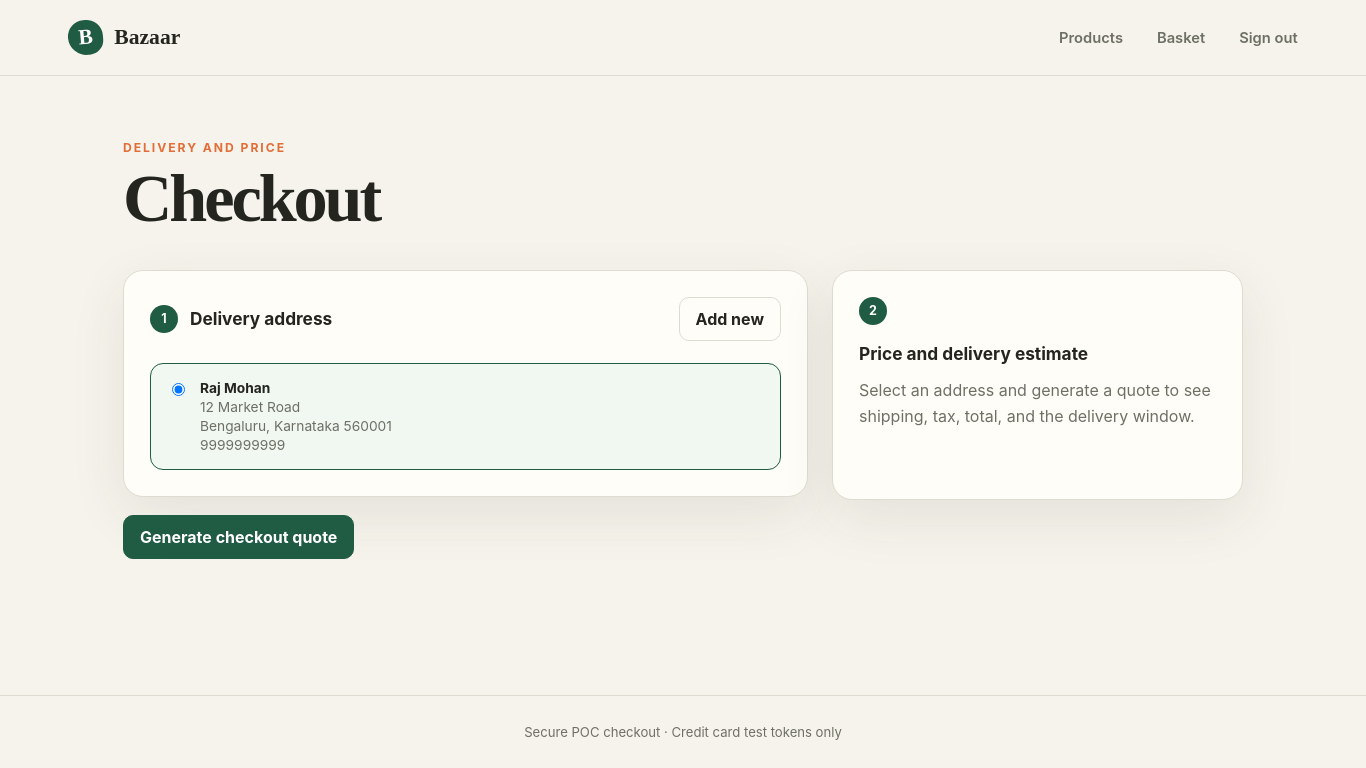
Test: commerce web › sends credit card token and reuses the idempotency key for a retry
Click the button "Generate checkout quote" at {"x": 239, "y": 537}, box [123,515,354,559]
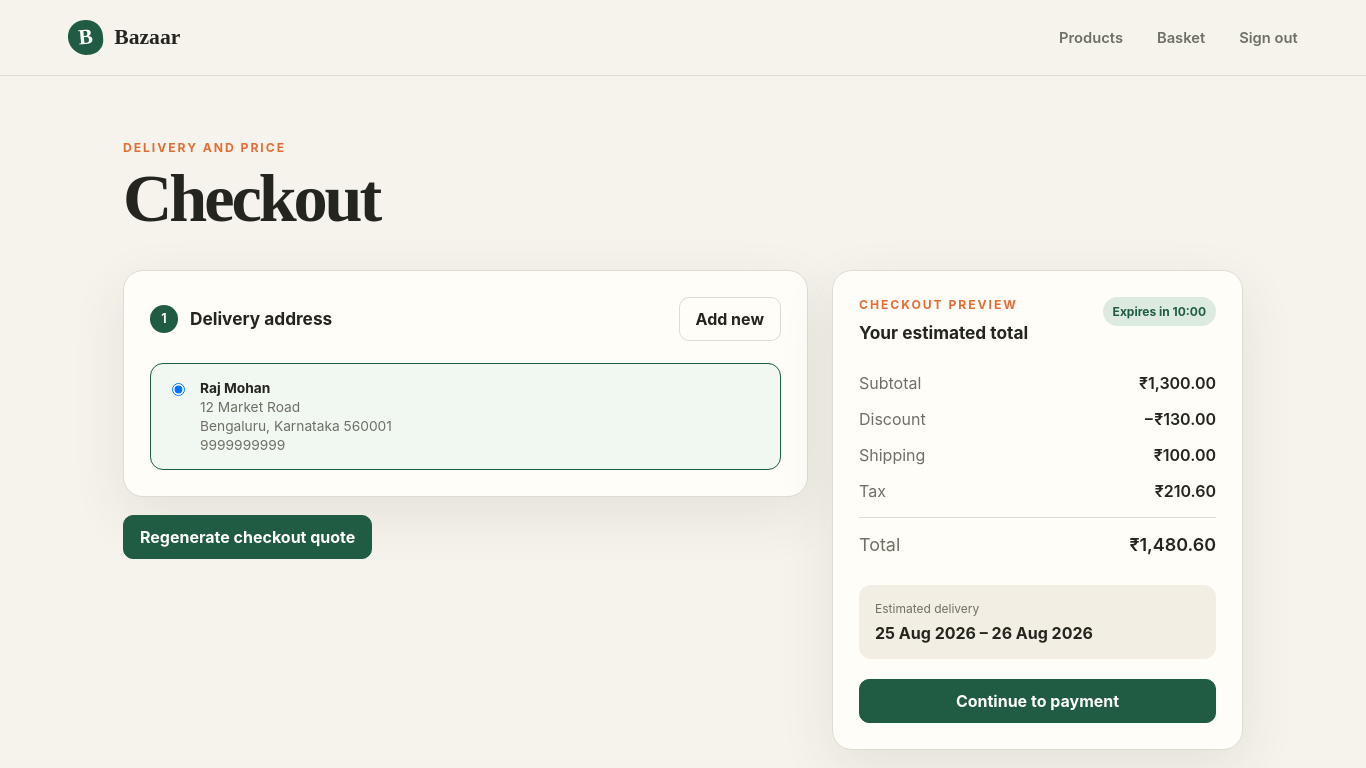
Click the button "Continue to payment" at {"x": 1038, "y": 701}, box [859,679,1216,723]
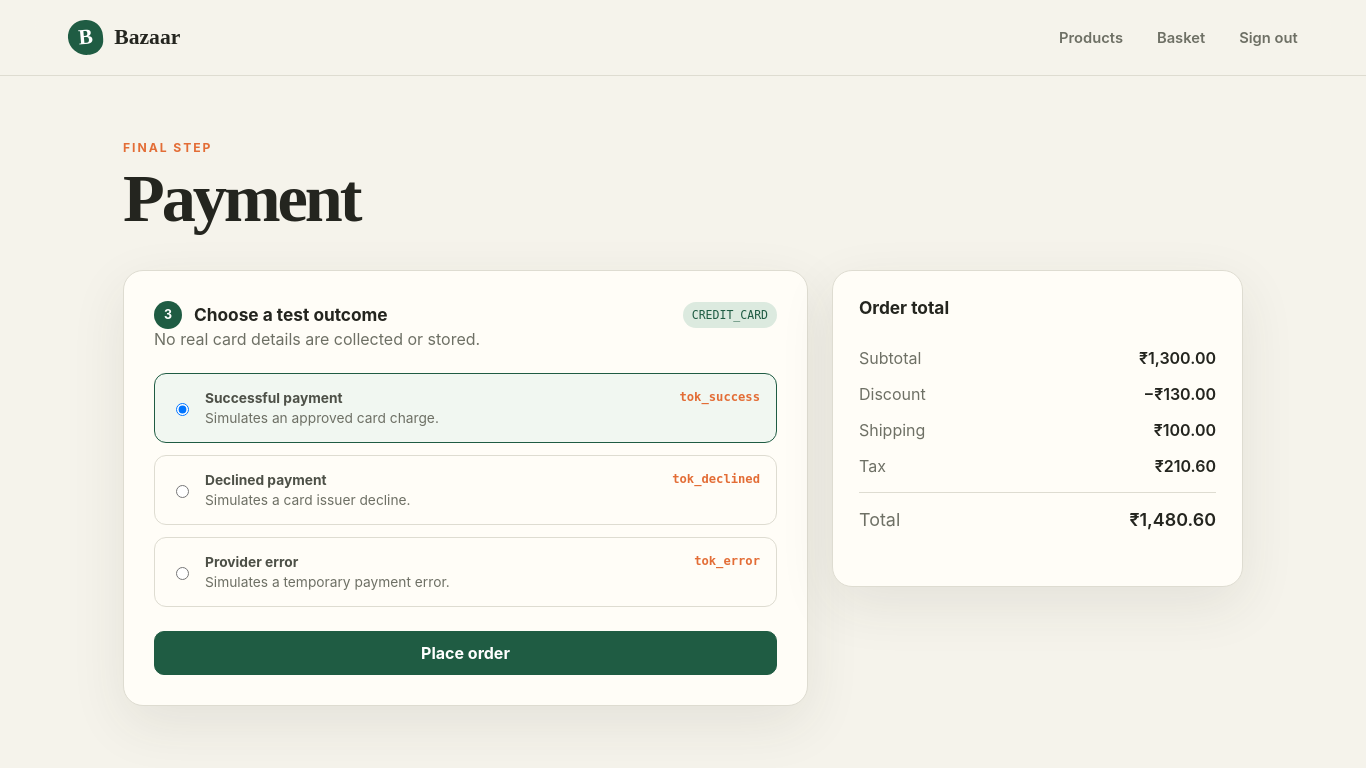
expect the heading "Payment" is shown: met, box [123,165,359,232]
Click the radio button labelled "Declined payment" at {"x": 182, "y": 491}, box [176,475,189,508]
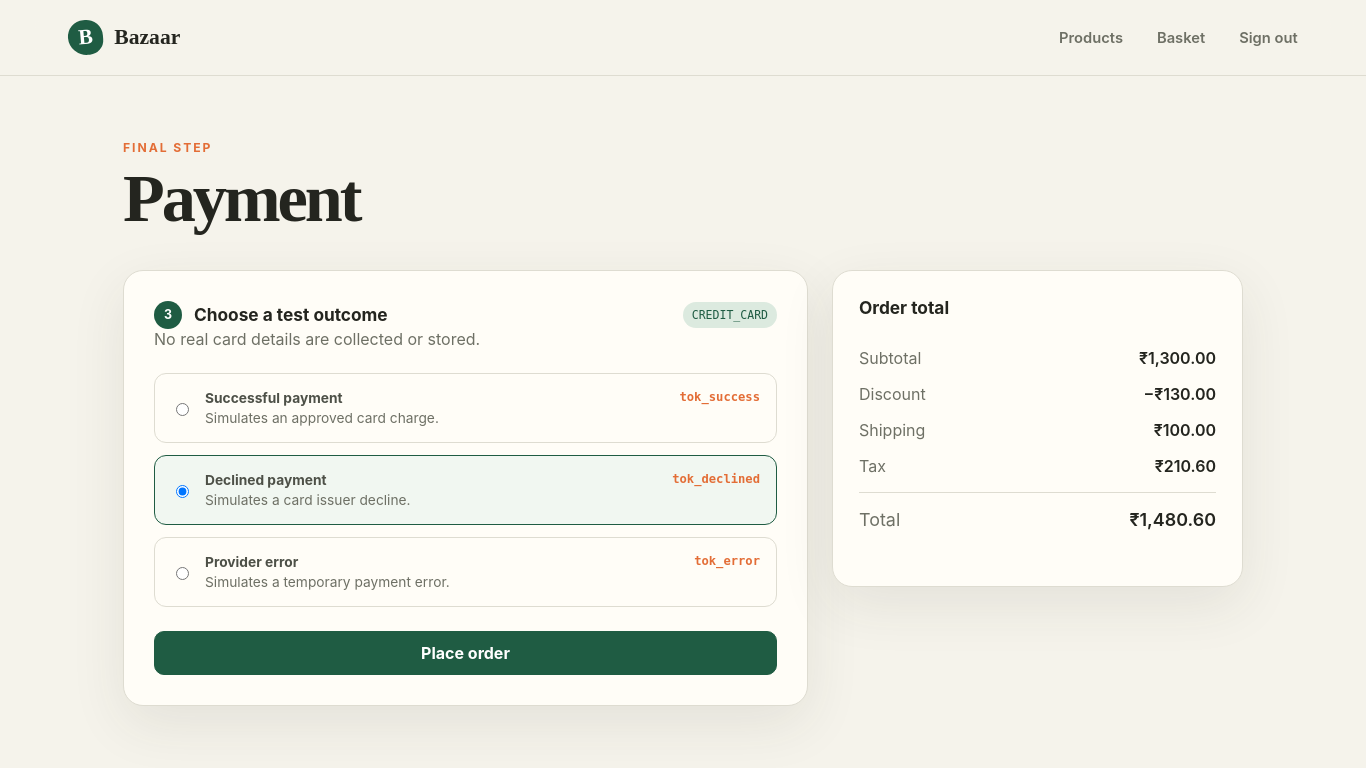
Click the button "Place order" at {"x": 466, "y": 653}, box [154,631,777,675]
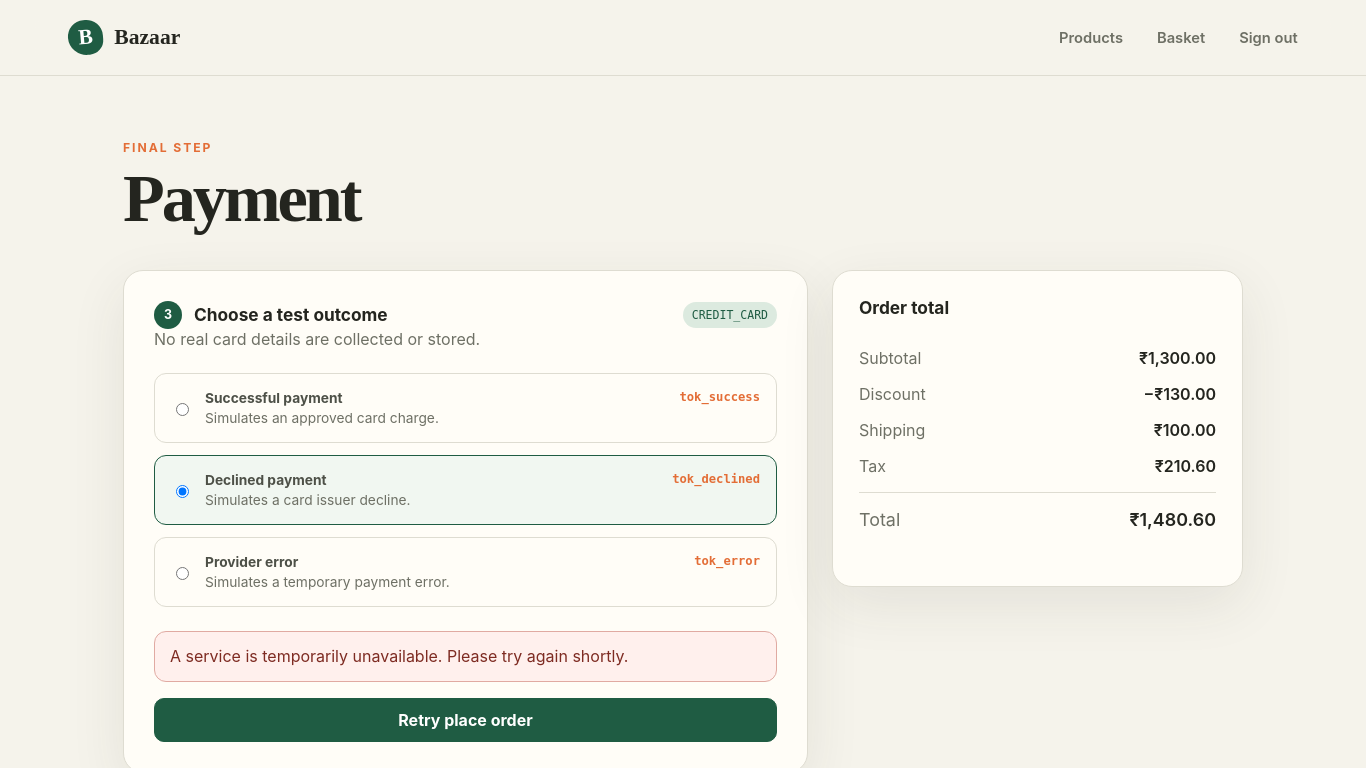
Click the button "Retry place order" at {"x": 466, "y": 720}, box [154,698,777,742]
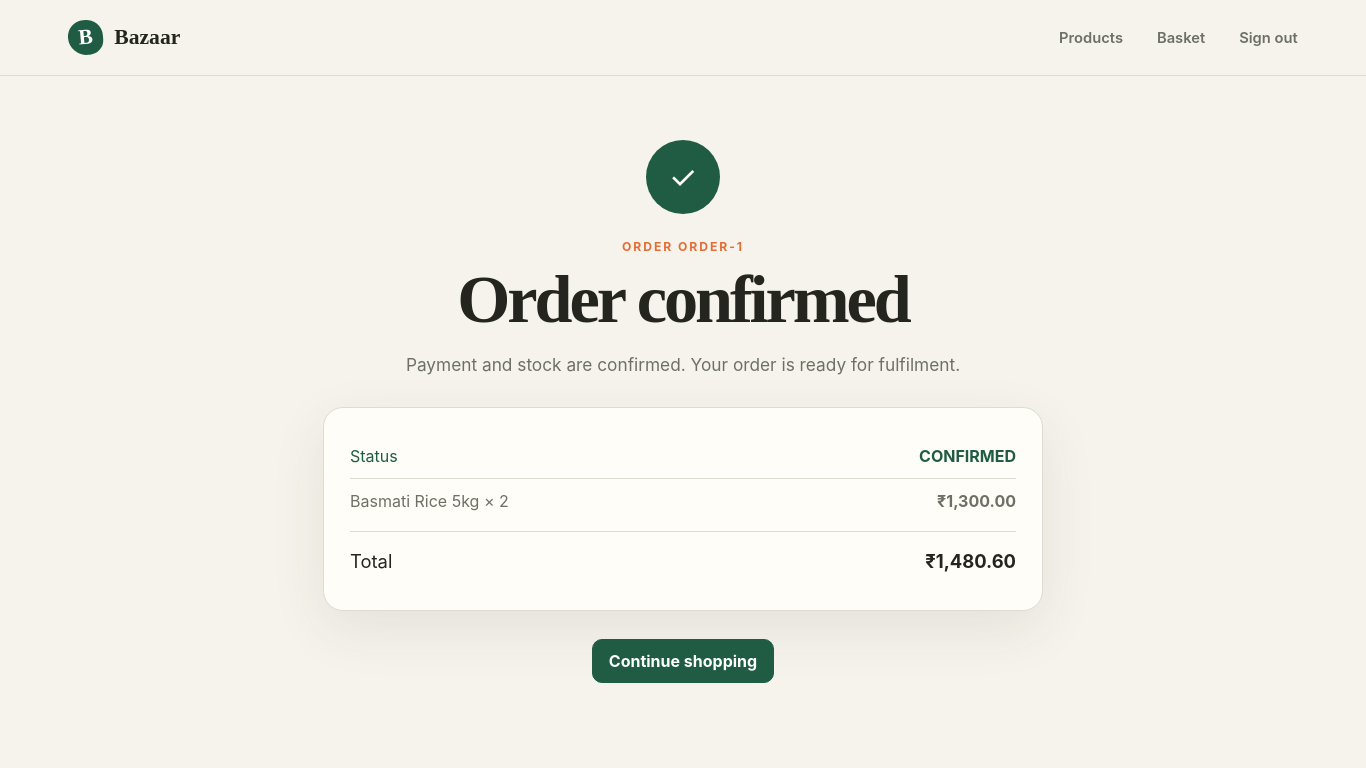
expect the heading "Order confirmed" is shown: met, box [457,261,909,337]
